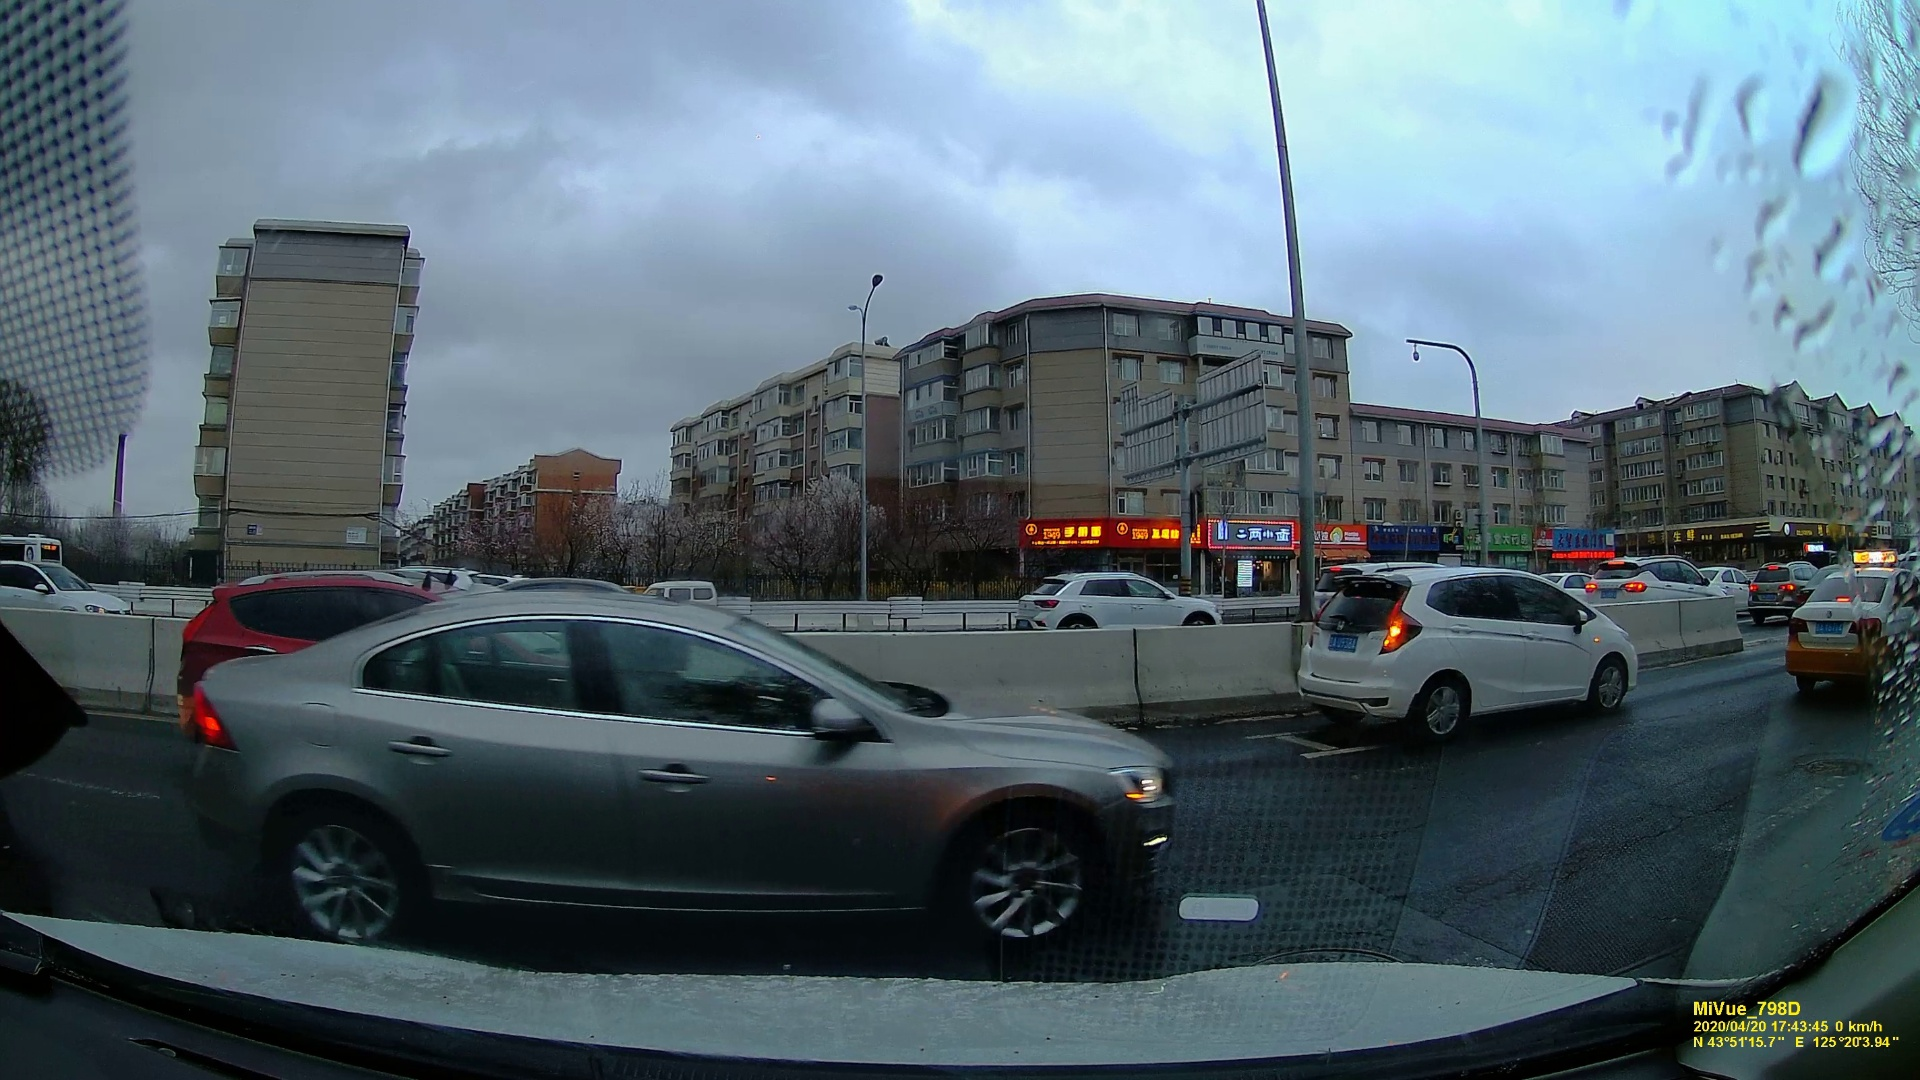vehicle: (200, 595, 1171, 971), (1300, 563, 1638, 729), (1787, 566, 1920, 691), (1005, 568, 1226, 636), (1, 556, 131, 618), (1584, 556, 1726, 604), (1751, 560, 1803, 620), (642, 578, 717, 603)
